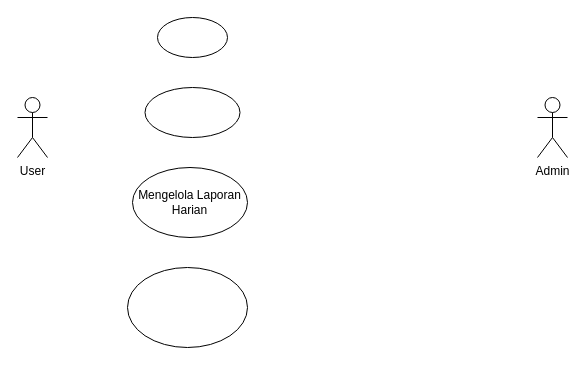
Image size: 587x365. Some labels were removed from this diagram. Each missing label, with the centre of its shape:
"Login" goes at point 192,37.
"Mengakses Dashboard" goes at point 192,112.
